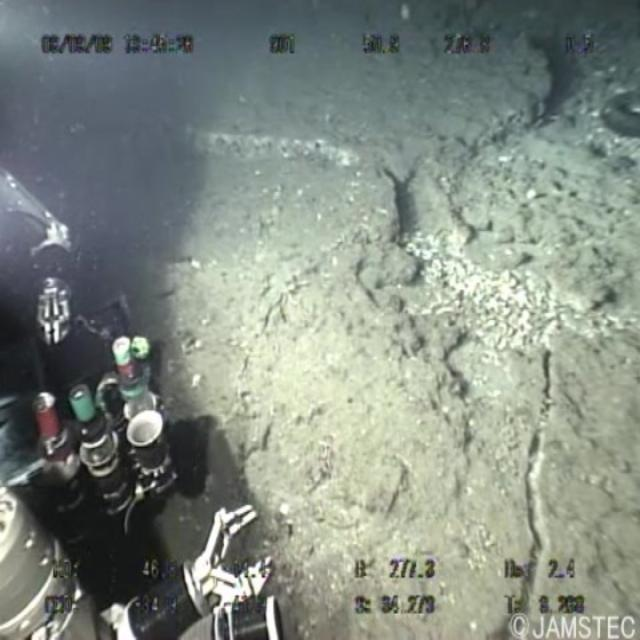Rubber: (582, 52, 640, 189)
